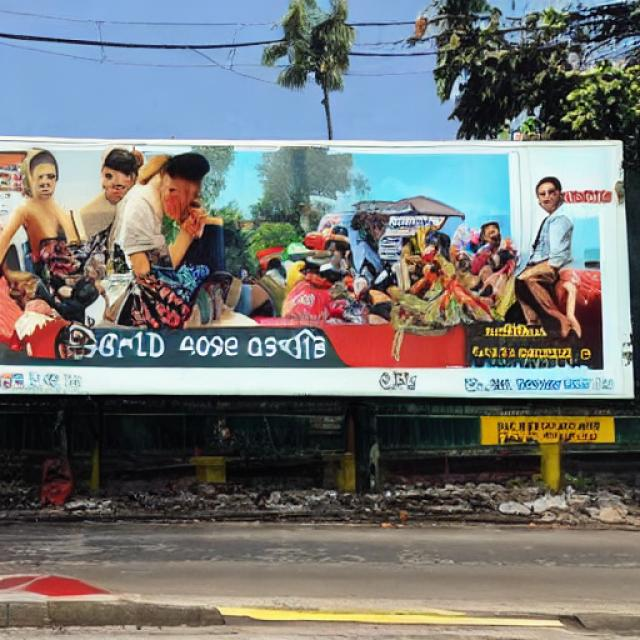Billboard: (0, 133, 640, 402)
